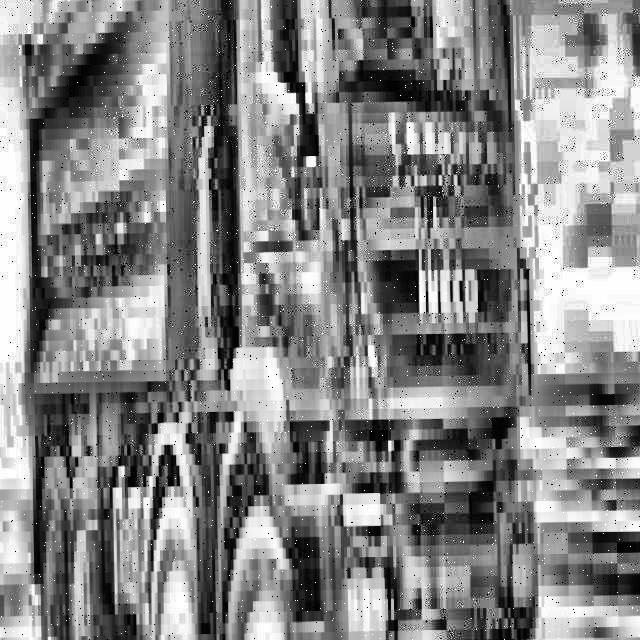dump_truck: (3, 0, 555, 640)
